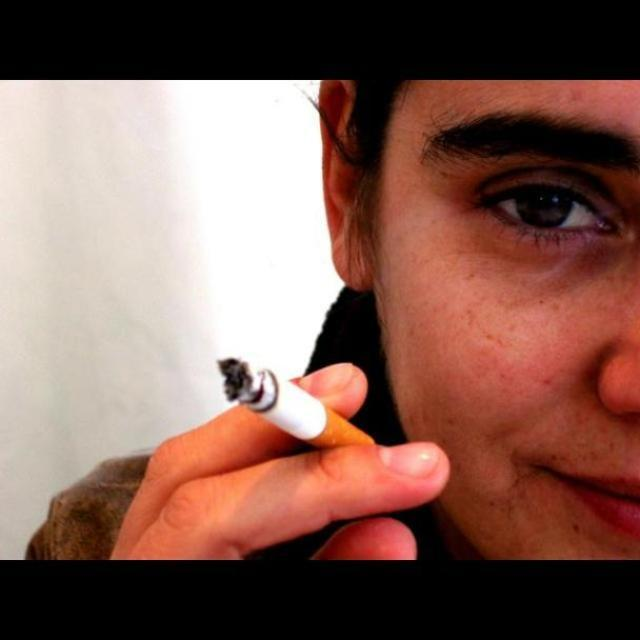rokok: (210, 348, 378, 459)
